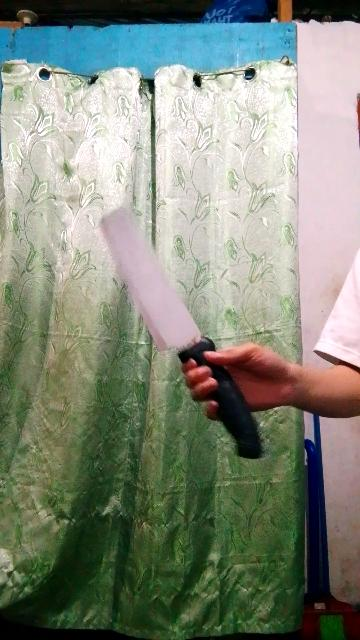long knife: (82, 200, 266, 460)
